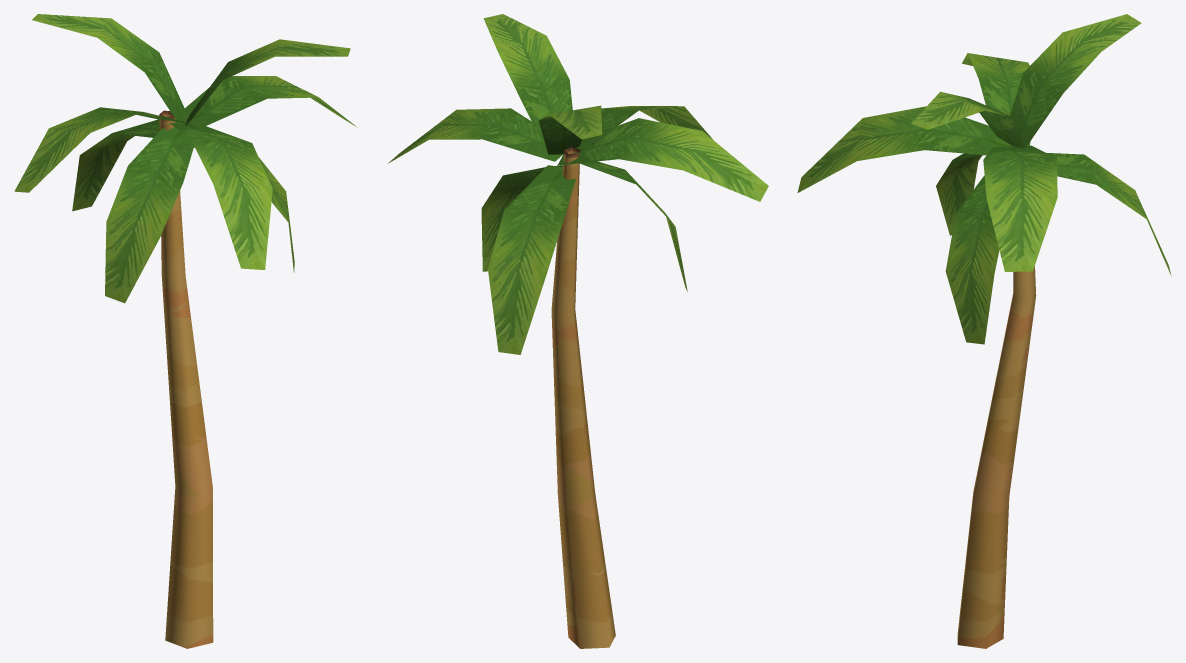
Rendered from SM_PalmTree_02.fbx.
3 renders of one model, left to right at view 1: azimuth 30°, elevation 25°; view 2: azimuth 150°, elevation 25°; view 3: azimuth 270°, elevation 25°, orthographic.
Parts seen in each view (by area): view 1: SM_PalmTree_02; view 2: SM_PalmTree_02; view 3: SM_PalmTree_02.
Part boxes in pixels (x1,y1,x2,y2): SM_PalmTree_02: (14, 14, 357, 648); SM_PalmTree_02: (388, 14, 768, 648); SM_PalmTree_02: (797, 14, 1171, 648).
Size of the model in its own units: 2.22 by 3.5 by 2.03.
